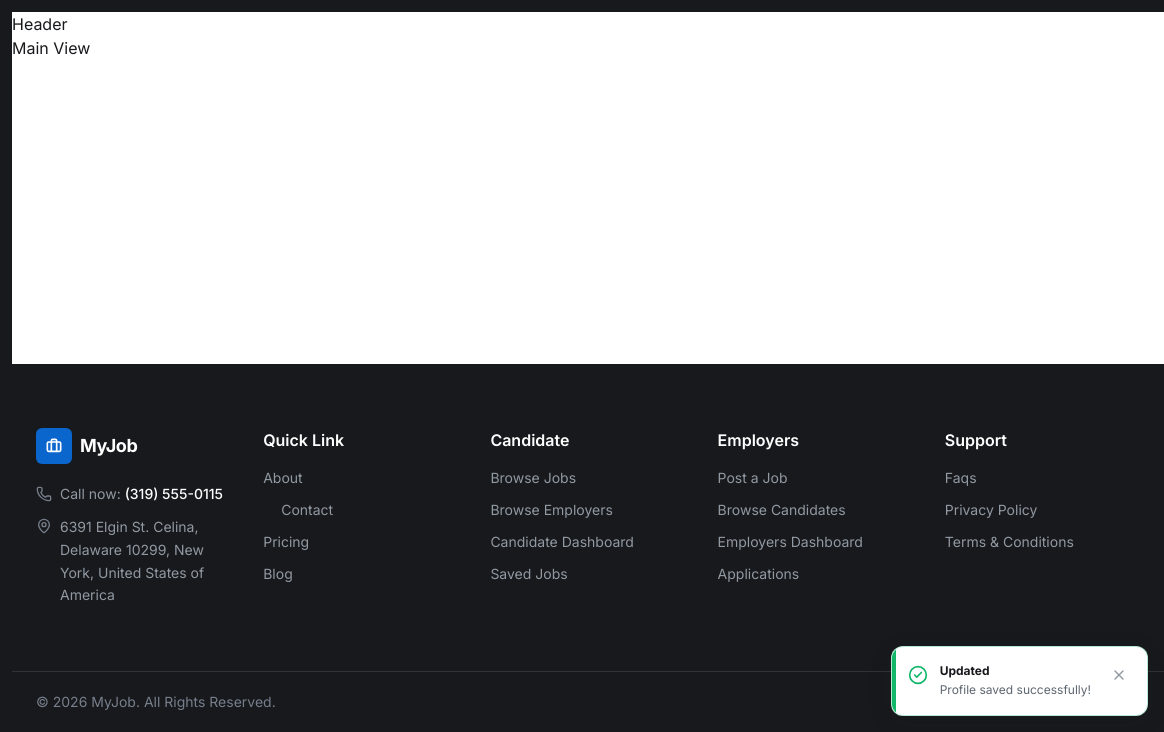
Test: Layout Chrome Components (src/components/layout/*) › AppShell Component (Server Component SC-FE-003 §7.2) › renders interactive toast notifications via AppShellFeedback
expect the heading "Updated" is shown: met, box left=940, top=662, right=990, bottom=678
expect the text "Profile saved successfully!" is shown: met, box left=940, top=680, right=1091, bottom=699
Click the button named "dismiss notification" at (1119, 674), box left=1107, top=662, right=1131, bottom=686
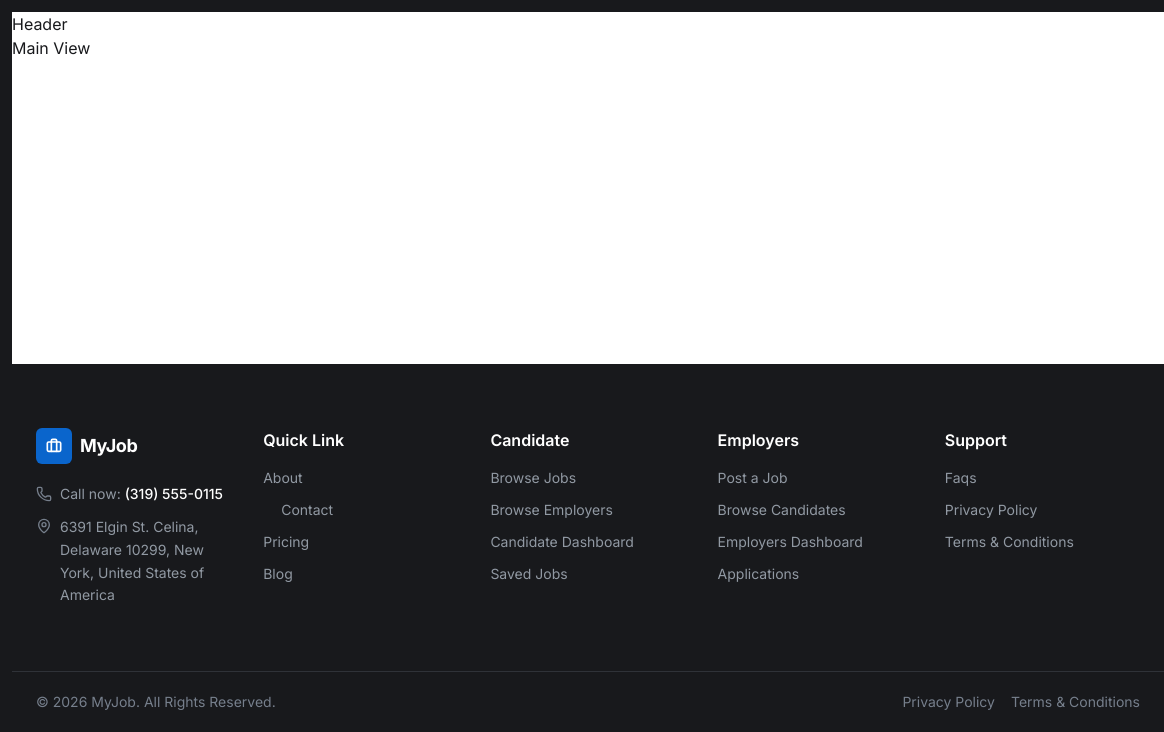
expect the text "Profile saved successfully!" is gone: met
